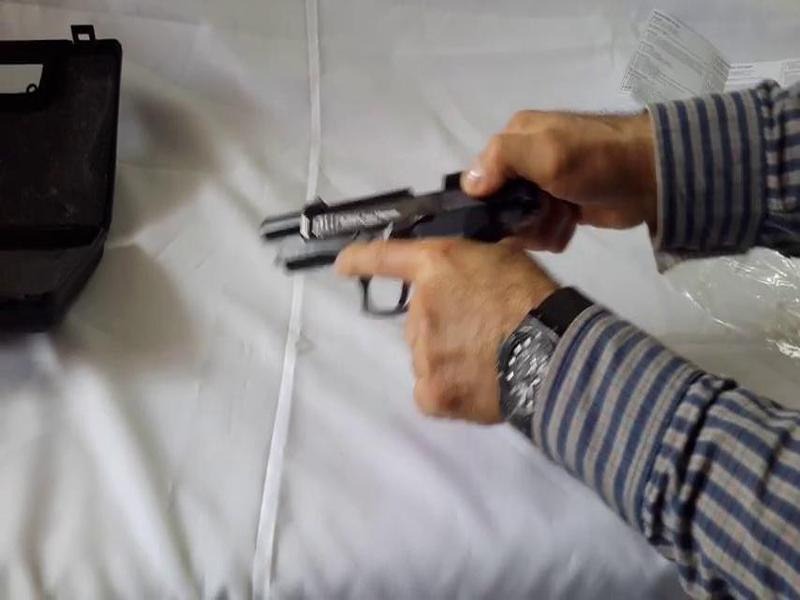Pistola: (251, 149, 580, 354)
